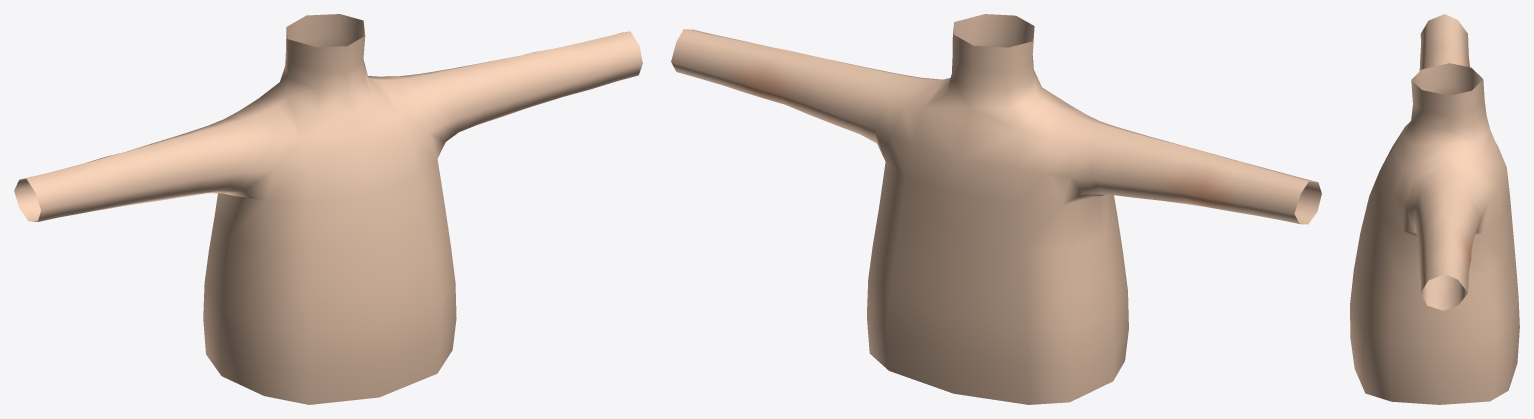
File: Body_Top_2.fbx
3 renders of one model, left to right at view 1: azimuth 30°, elevation 25°; view 2: azimuth 150°, elevation 25°; view 3: azimuth 270°, elevation 25°, orthographic. The views are drawn at different scales.
Parts seen in each view (by area): view 1: Body_Top_2; view 2: Body_Top_2; view 3: Body_Top_2.
Boxes of the visible parts, <box> form: Body_Top_2: <box>14,14,642,404</box>; Body_Top_2: <box>671,14,1321,404</box>; Body_Top_2: <box>1350,14,1519,404</box>.
Size of the model in its own units: 95.86 by 49.84 by 26.46.
